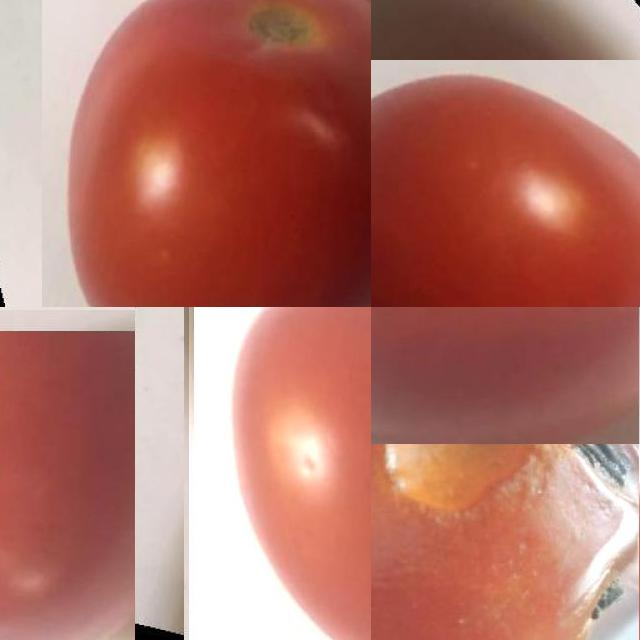Fresh Tomato: (42, 0, 371, 307), (371, 60, 640, 307), (189, 307, 371, 640), (0, 331, 135, 640), (371, 307, 639, 444)
Rotten Tomato: (371, 444, 639, 640)
